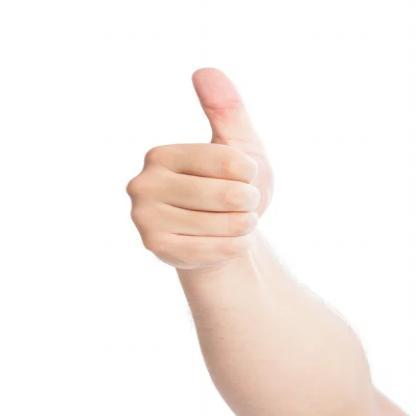thumb_up: (119, 63, 286, 273)
